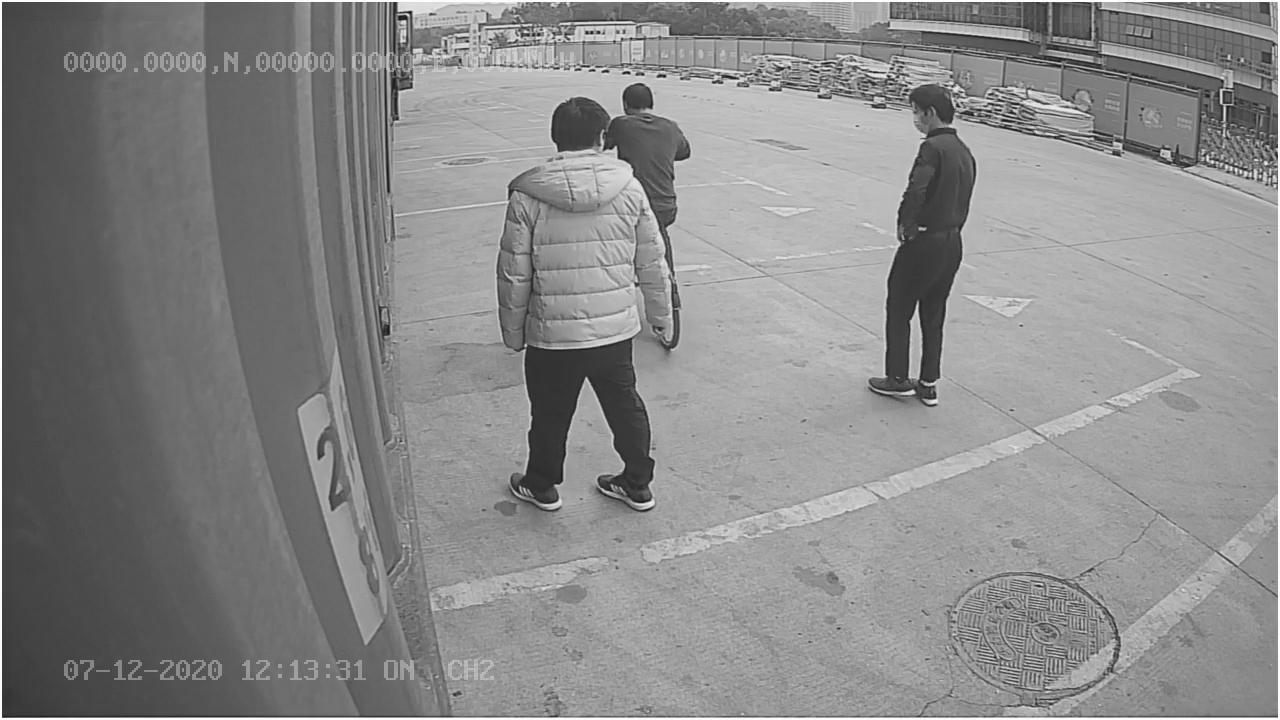person: (865, 79, 977, 413)
